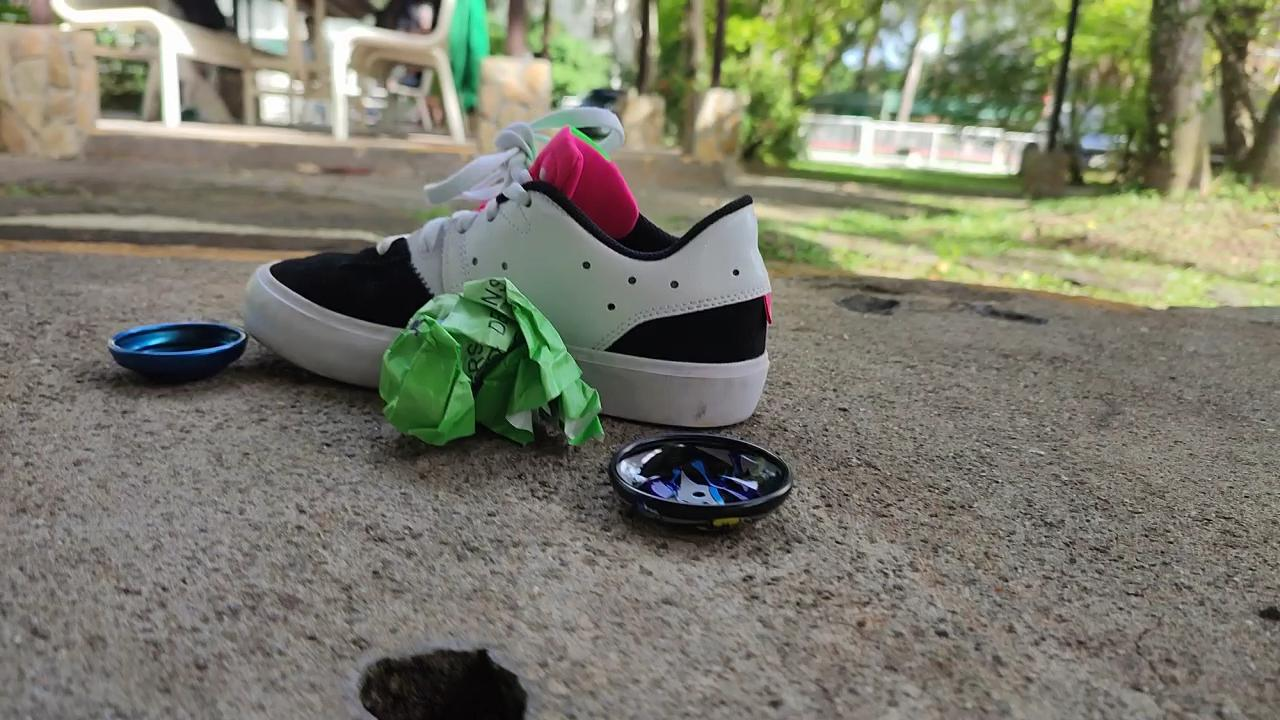Paper: (351, 258, 611, 469)
